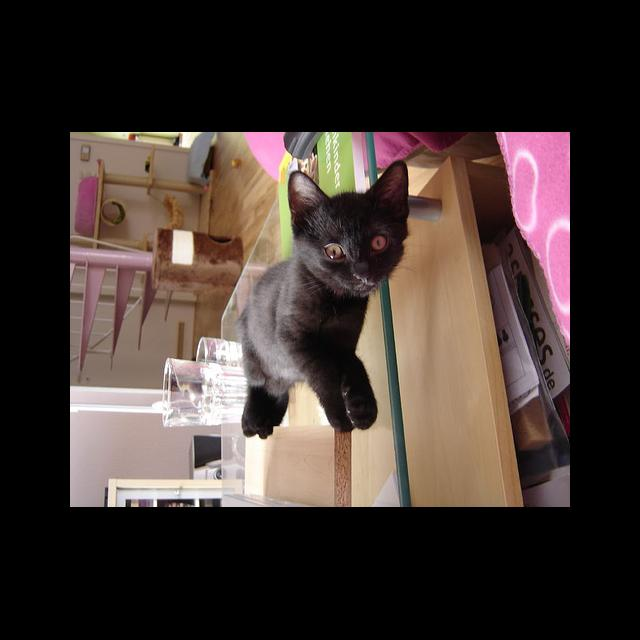animals: (293, 160, 404, 282)
